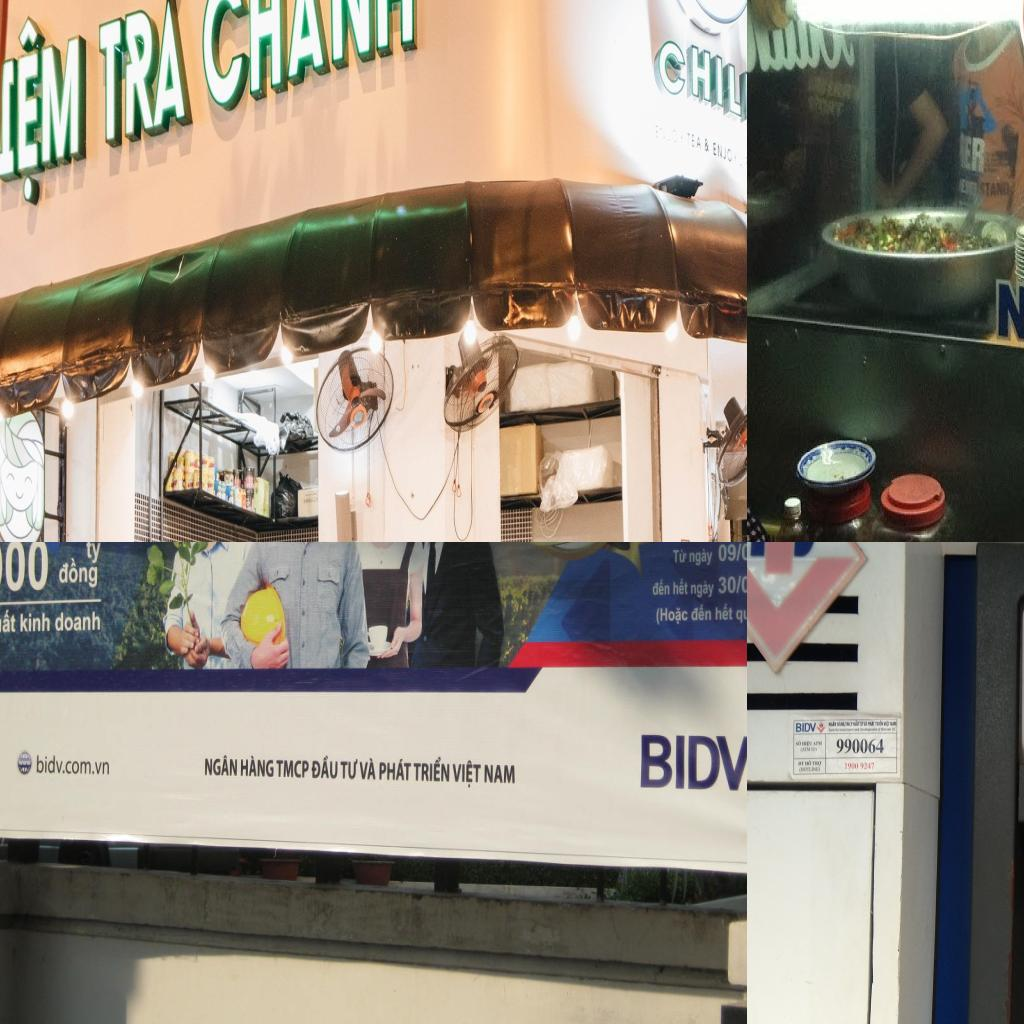text: (193, 0, 419, 124), (0, 2, 97, 214), (92, 0, 198, 159), (655, 20, 747, 133), (987, 271, 1024, 360), (0, 542, 51, 596), (34, 750, 112, 777), (55, 557, 104, 592), (54, 610, 104, 635), (412, 756, 452, 784), (202, 753, 240, 780), (376, 755, 412, 783), (450, 759, 483, 789), (18, 608, 52, 635), (240, 753, 275, 779), (276, 756, 310, 780), (482, 762, 516, 786), (836, 738, 884, 754), (312, 754, 340, 780), (654, 606, 688, 626), (716, 138, 739, 167), (340, 756, 360, 782), (82, 542, 103, 566), (689, 547, 715, 566), (0, 607, 16, 637), (691, 580, 715, 599), (358, 756, 376, 780), (691, 602, 712, 622), (717, 576, 737, 596), (690, 131, 708, 153), (714, 602, 733, 622), (718, 543, 736, 563), (650, 579, 670, 597), (672, 578, 689, 596), (672, 546, 688, 564), (844, 762, 875, 770), (735, 605, 747, 624), (796, 722, 817, 732), (735, 576, 743, 595), (735, 542, 742, 562), (799, 767, 821, 773), (741, 542, 747, 562), (708, 135, 714, 154), (742, 573, 747, 595), (860, 727, 877, 733), (802, 740, 812, 748), (800, 747, 811, 753), (839, 728, 854, 732), (880, 727, 892, 732), (812, 760, 822, 766), (875, 720, 883, 727), (883, 720, 890, 728), (812, 741, 822, 746), (828, 720, 836, 726), (837, 720, 845, 726), (845, 721, 853, 727), (804, 760, 812, 766), (796, 740, 802, 747), (867, 721, 875, 726), (853, 720, 859, 726), (891, 726, 897, 732), (811, 746, 817, 752), (863, 720, 868, 727), (890, 721, 897, 726), (828, 728, 836, 732), (798, 761, 804, 766), (859, 721, 864, 726), (854, 727, 859, 732), (835, 728, 840, 732), (877, 727, 881, 732)
